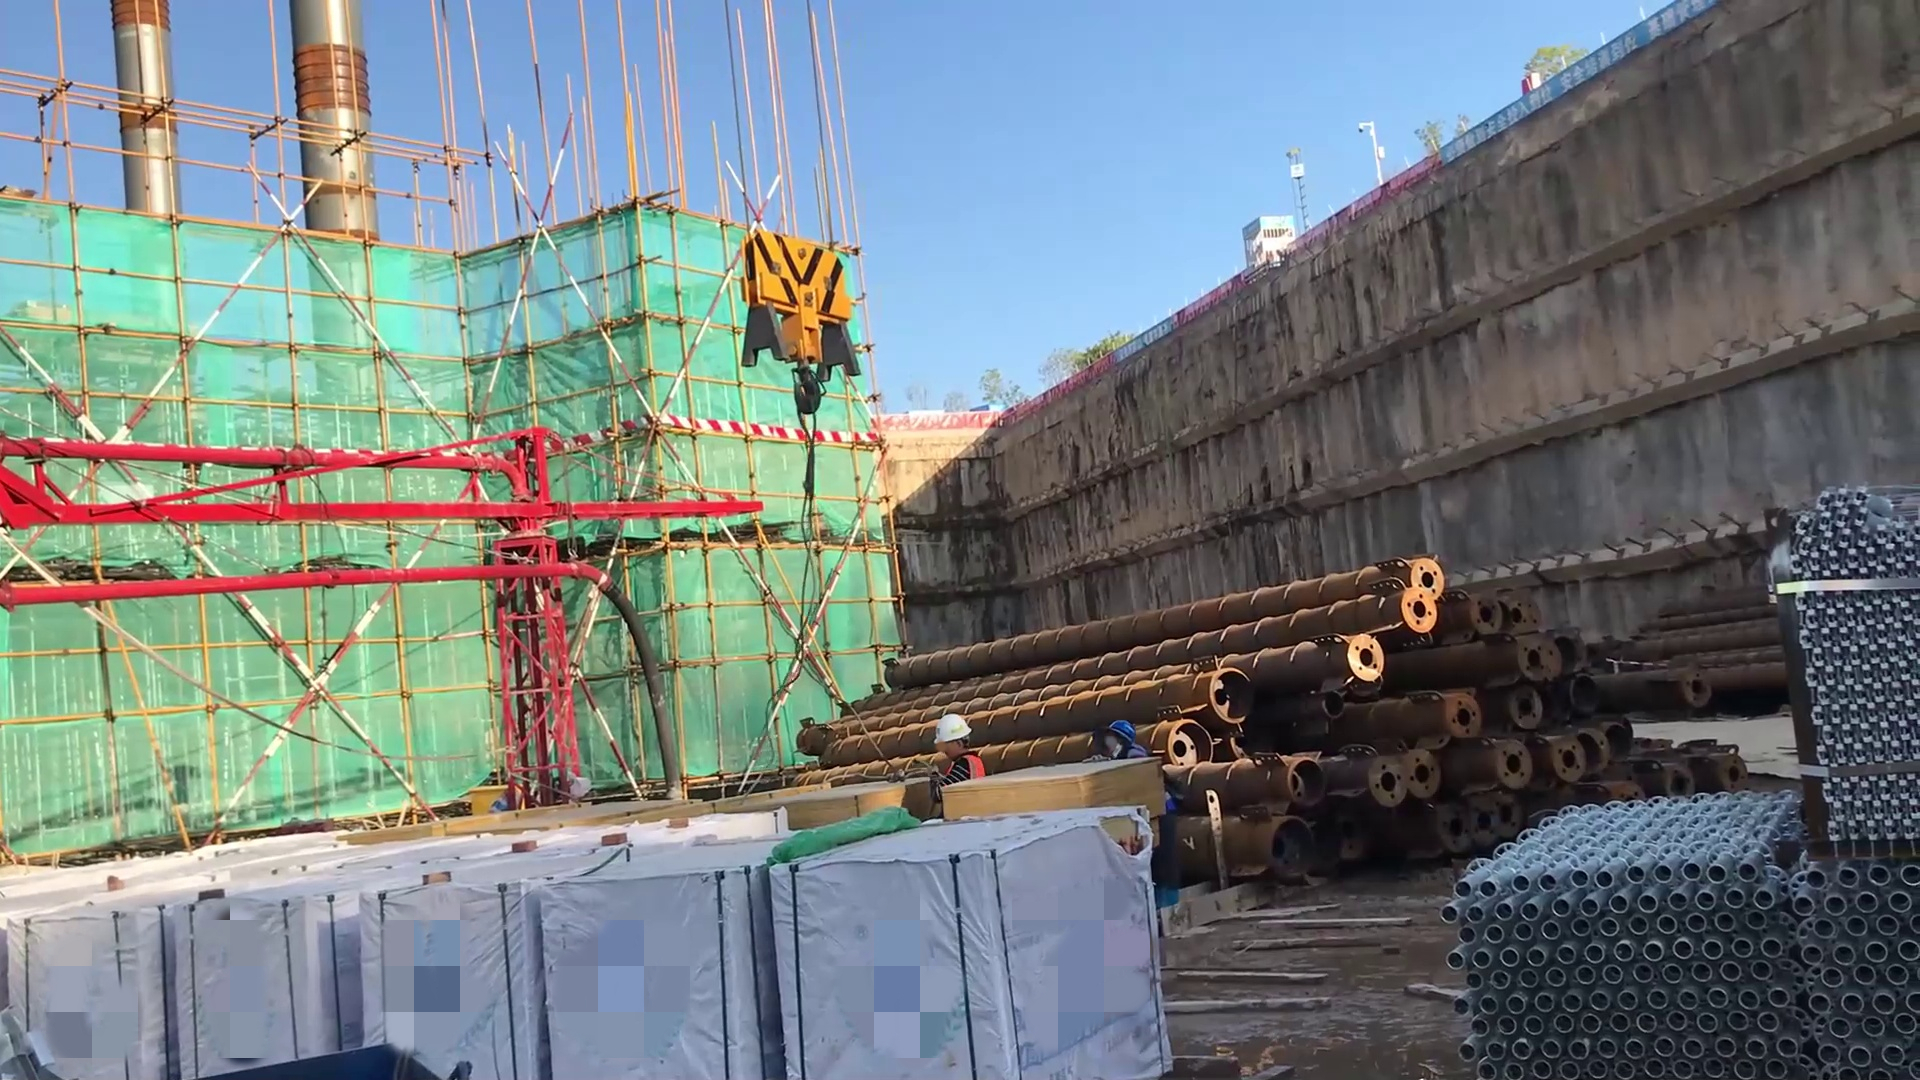board: (938, 762, 1161, 843)
ebox: (458, 778, 523, 831)
helmet: (1098, 716, 1144, 755), (929, 716, 973, 752)
hook: (734, 220, 869, 492)
person: (1078, 712, 1188, 937), (917, 705, 985, 828)
scaffold: (1404, 784, 1861, 1080), (1780, 473, 1920, 1073)
slogan: (1426, 1, 1716, 176), (1115, 314, 1176, 363)
vest: (938, 756, 989, 810)
